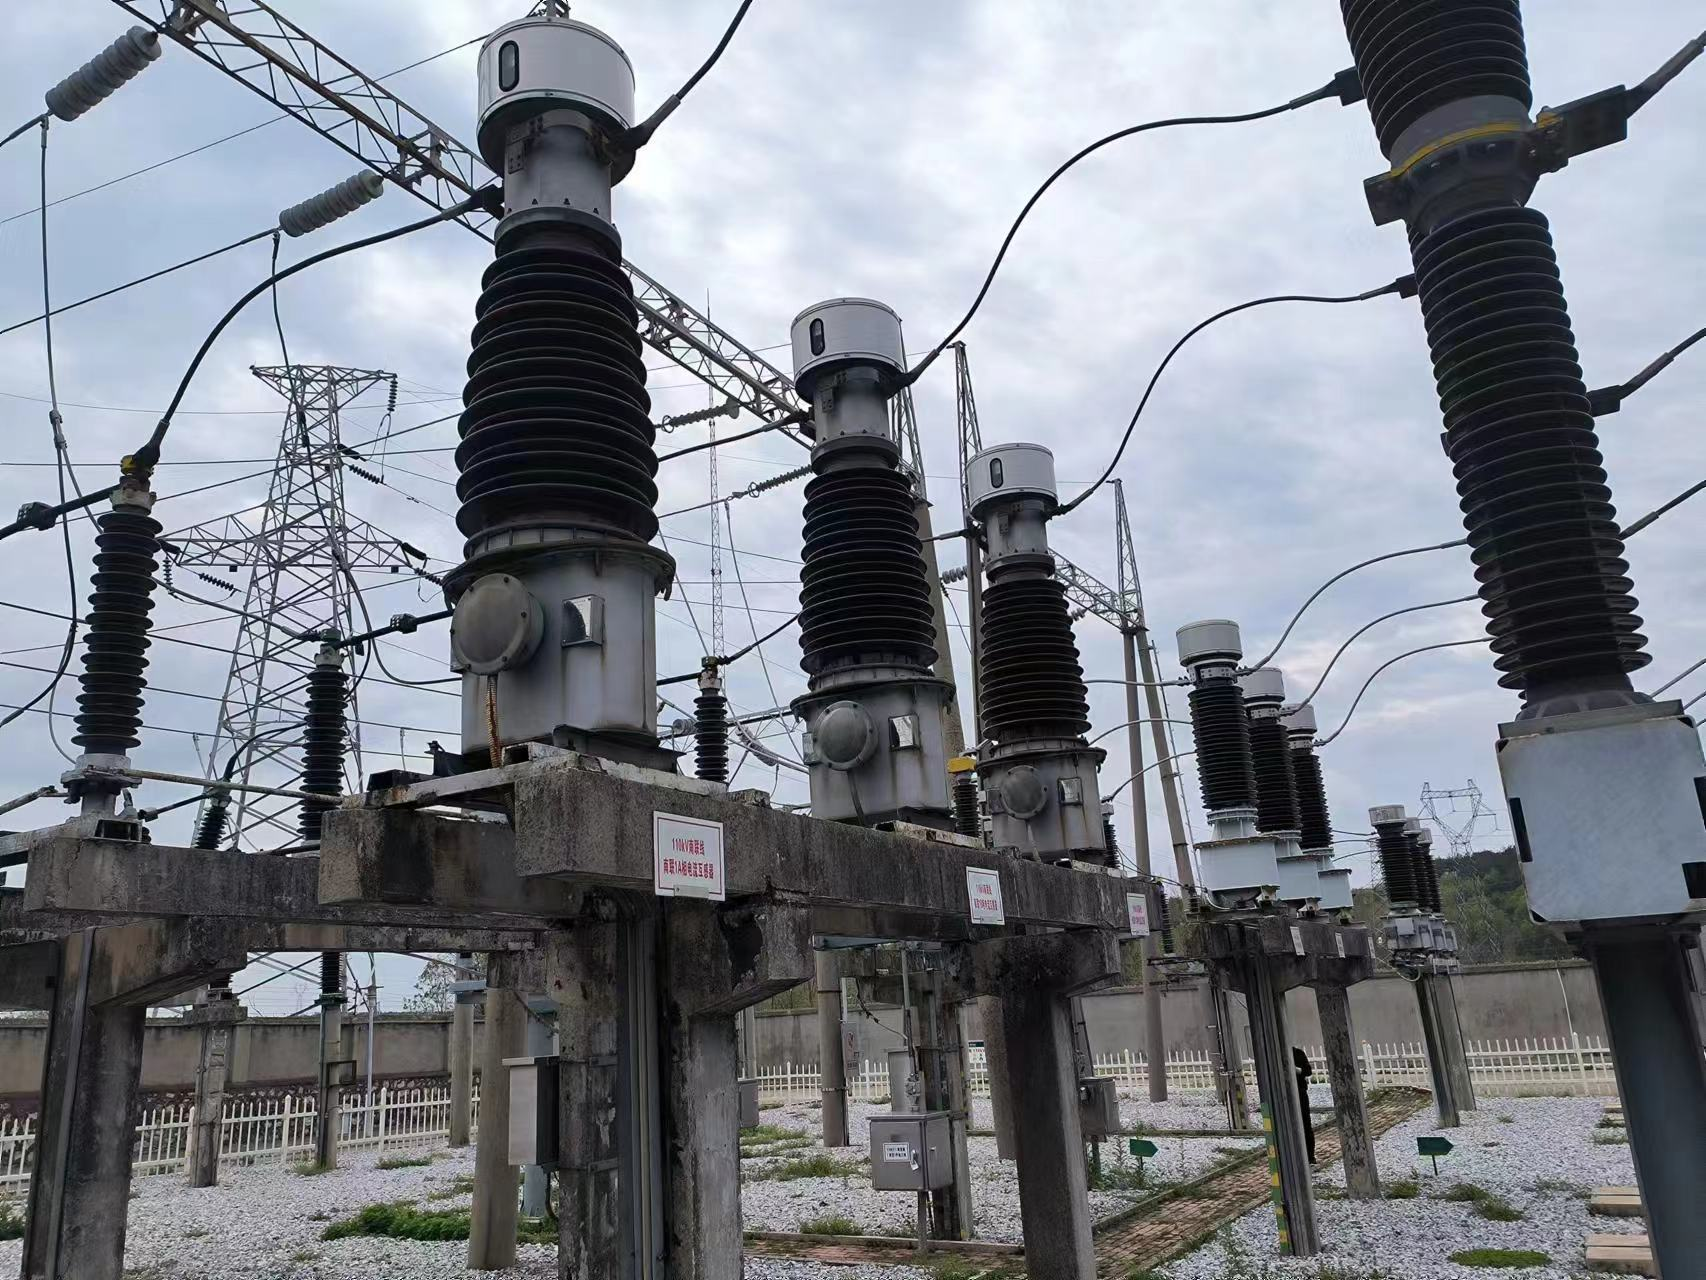Current transformer: (444, 13, 680, 748), (778, 294, 960, 822), (961, 442, 1113, 854)
